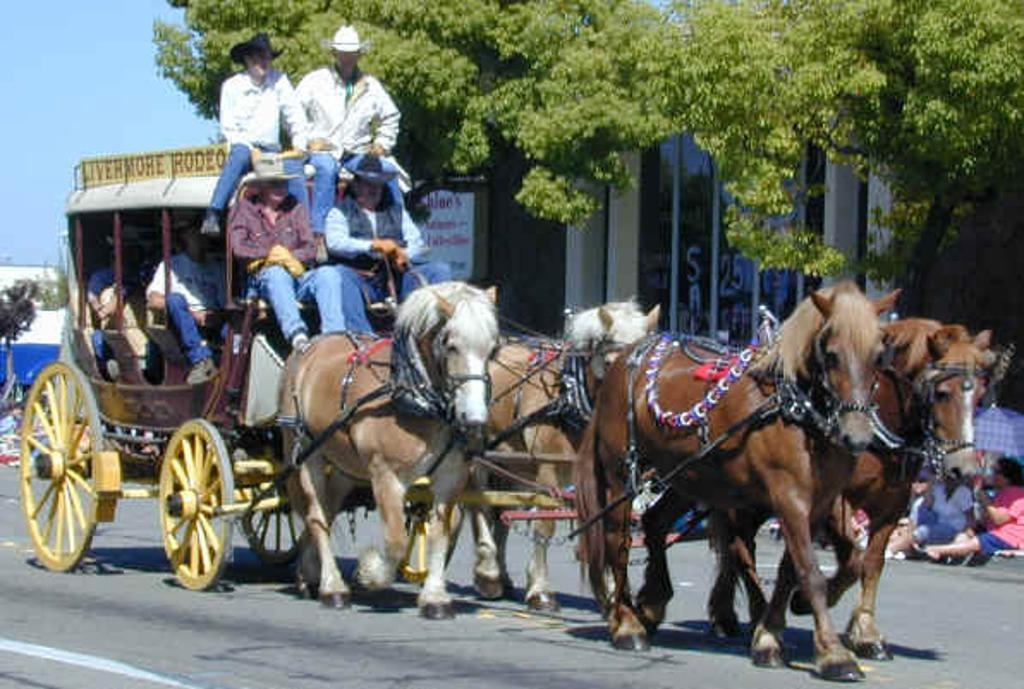human_face: (358, 175, 382, 205), (187, 226, 209, 258), (264, 173, 288, 201), (336, 50, 356, 78), (249, 50, 267, 74), (992, 462, 1008, 484), (911, 474, 927, 494), (944, 470, 956, 485)
